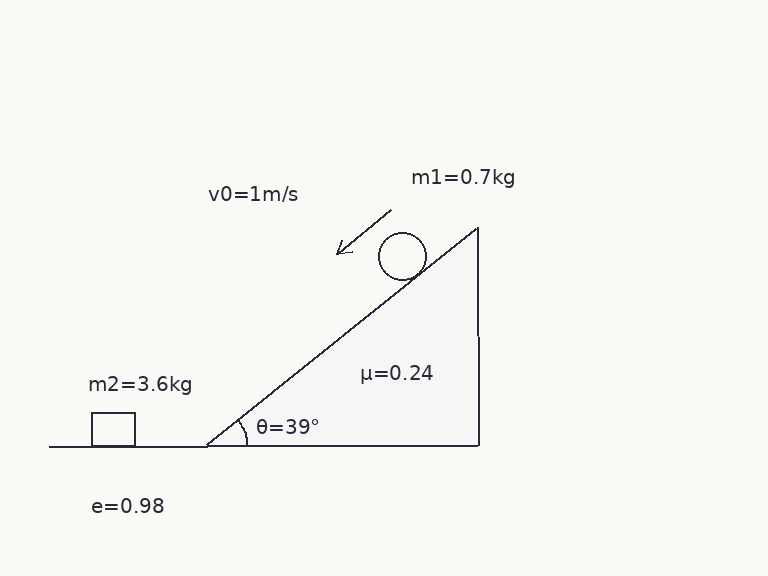ball: (376, 230, 428, 282)
block: (89, 411, 137, 447)
ramp: (205, 225, 479, 447)
